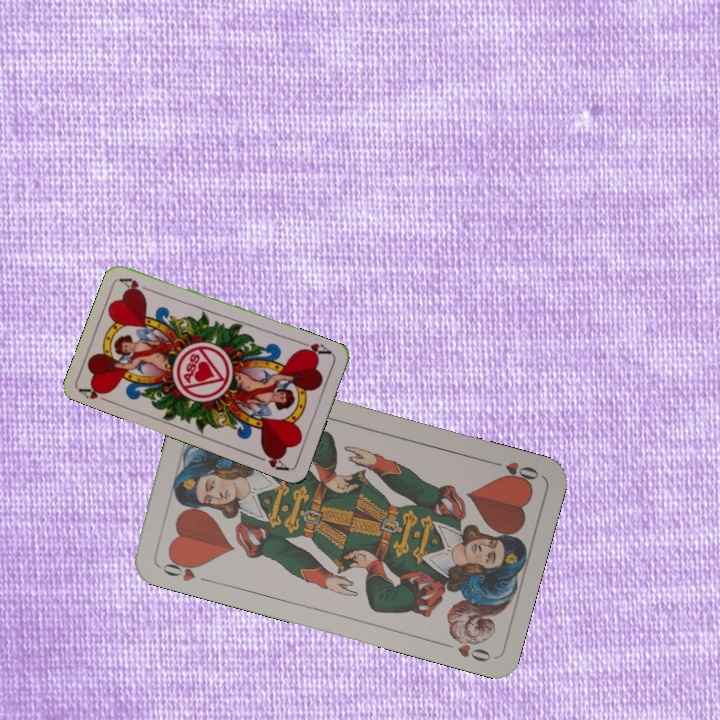HA: (76, 381, 115, 406), (295, 338, 336, 359)
HO: (155, 553, 213, 586), (485, 456, 542, 488)
